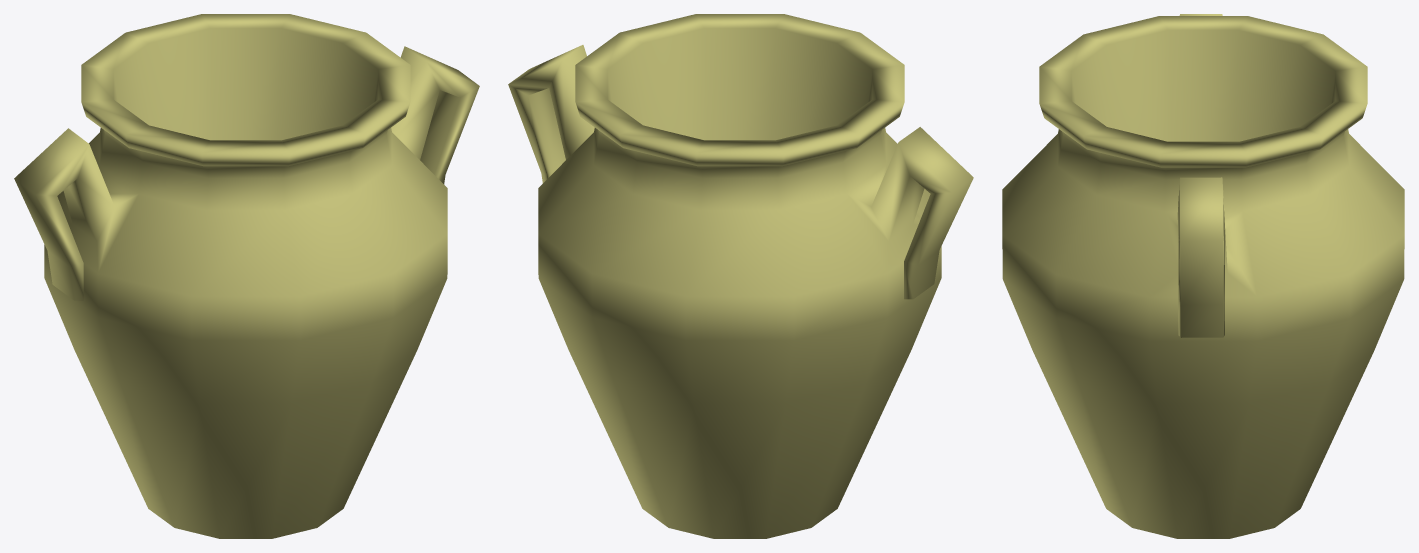
File: Mod_Vase_LO_V4_JT.fbx
The picture shows the model from 3 angles, left to right: view 1: azimuth 30°, elevation 25°; view 2: azimuth 150°, elevation 25°; view 3: azimuth 270°, elevation 25°; orthographic projection.
Parts seen in each view (by area): view 1: Vase_LO_V4; view 2: Vase_LO_V4; view 3: Vase_LO_V4.
Boxes of the visible parts, x1,y1,x2,y2 form: Vase_LO_V4: [14, 14, 479, 538]; Vase_LO_V4: [508, 14, 973, 538]; Vase_LO_V4: [1002, 14, 1404, 538].
Size of the model in its own units: 36.72 by 32.68 by 28.87.
